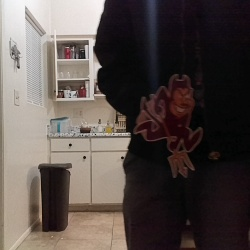sparky: (132, 73, 203, 178)
